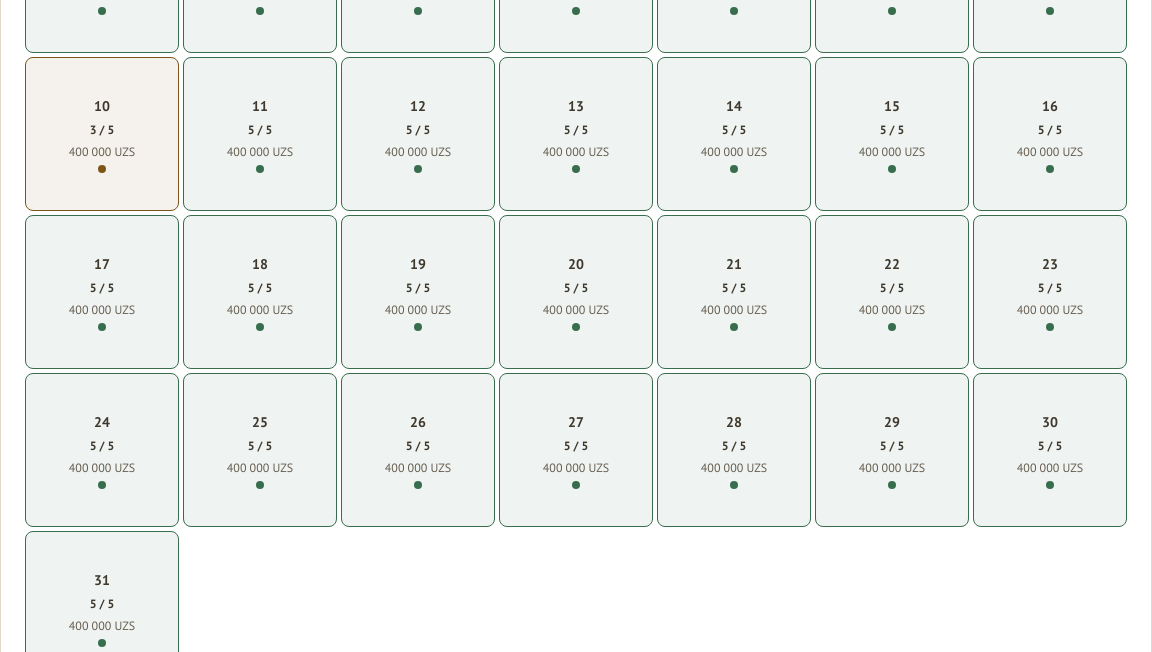
PartnerRoomCalendar upgrade › prices of a rate plan › sets one price for the chosen range, reloads the prices and confirms
(page scrolled)
Expected: the text "3 / 5" is shown, 90,120 -> 114,138
Click the button "20 5 / 5 400 000 UZS" at (576, 292), box 499,215 -> 653,369
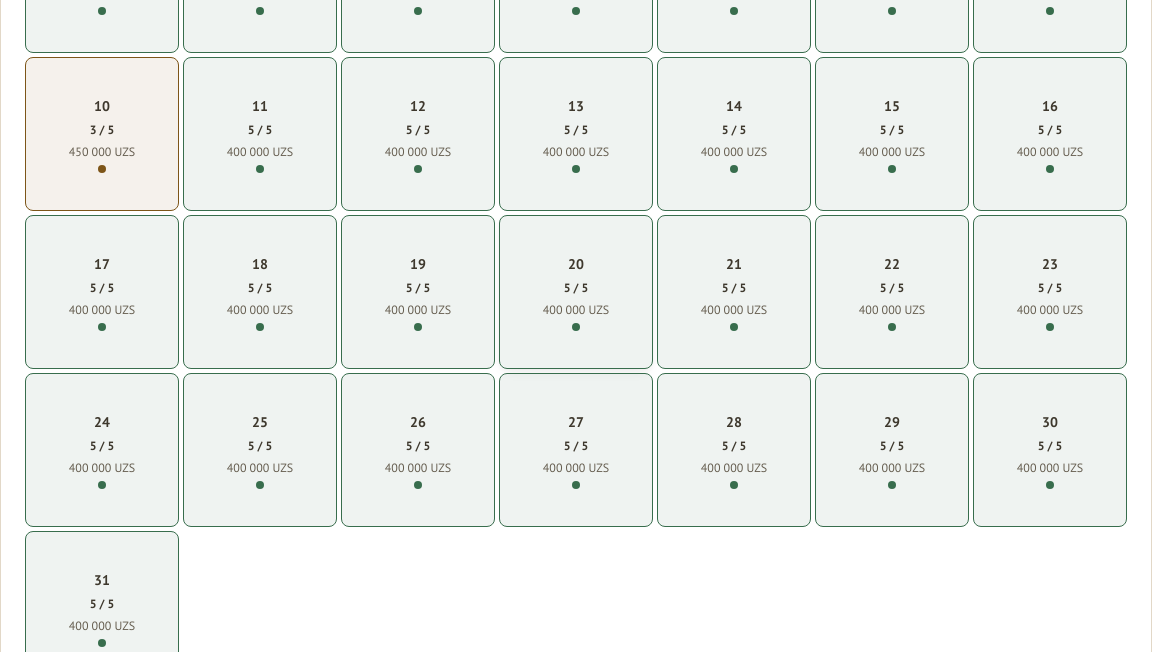
Click the button "23 5 / 5 400 000 UZS" at (1050, 292), box 973,215 -> 1127,369
(page scrolled)
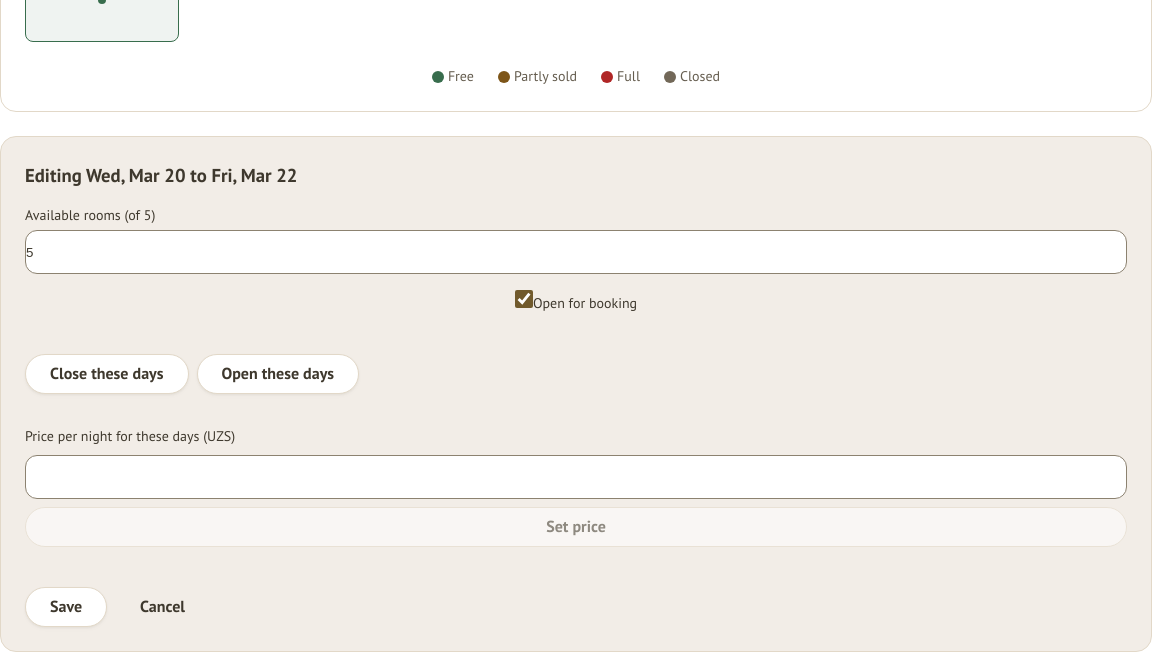
Expected: the button "Set price" is disabled, 25,507 -> 1127,547
Type "520000" into the field labelled "Price per night for these days (UZS)" at (576, 477), box 25,455 -> 1127,499
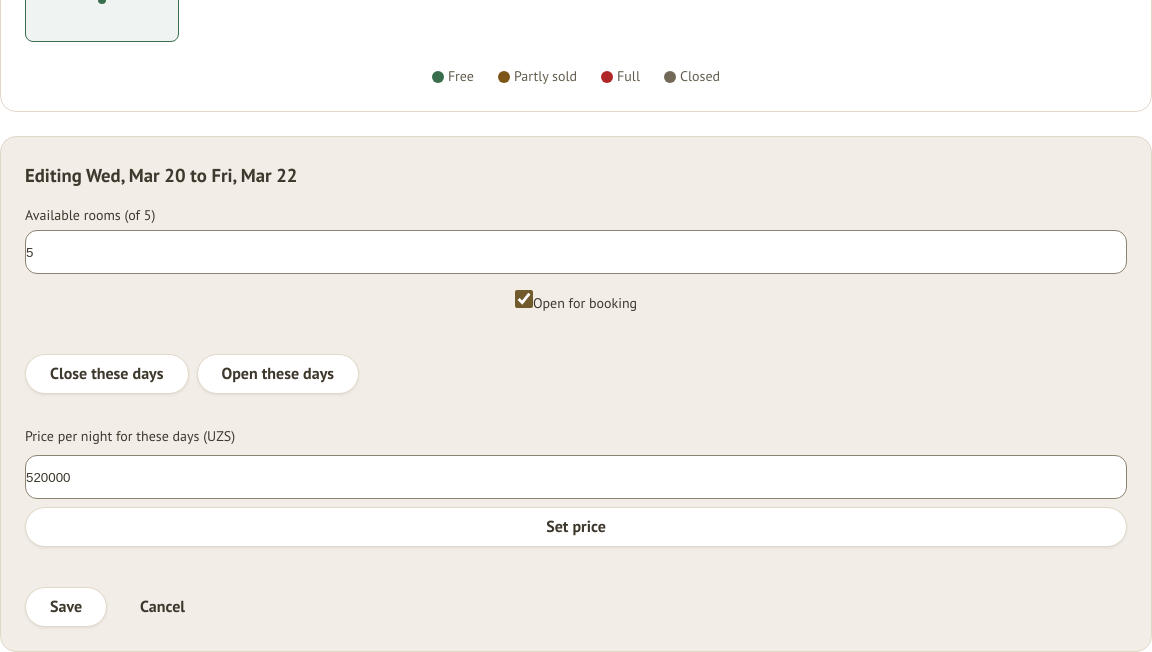
Expected: the button "Set price" is enabled
Click the button "Set price" at (576, 527), box 25,507 -> 1127,547
(page scrolled)
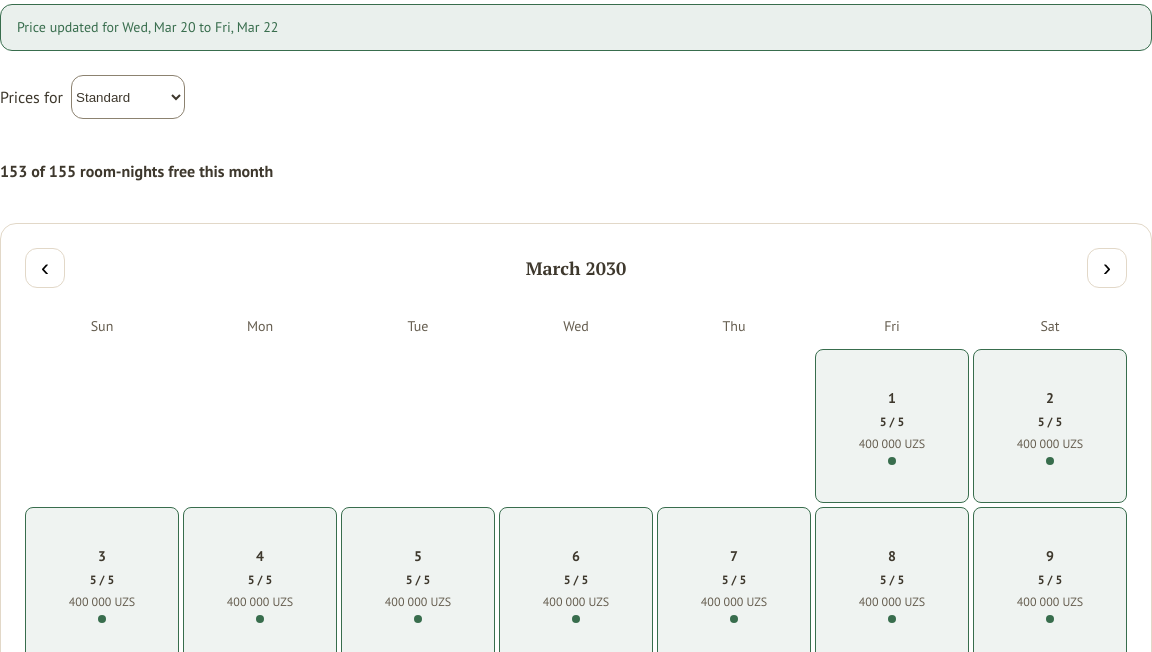
Expected: the text "Price updated for Wed, Mar 20 to Fri, Mar 22" is shown, 0,4 -> 1151,51
